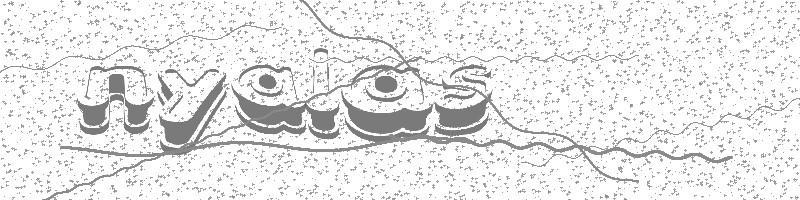a: (340, 59, 434, 143), (229, 62, 307, 138)
i: (306, 45, 343, 143)
n: (78, 59, 153, 134)
s: (432, 61, 495, 138)
y: (154, 63, 231, 155)
